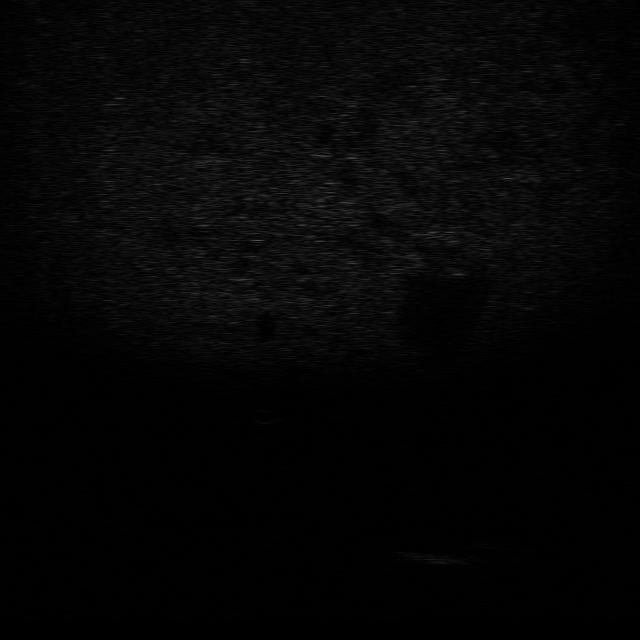ball: (242, 402, 284, 426)
metal bucket: (399, 546, 476, 569)
tyre: (436, 515, 522, 551)
